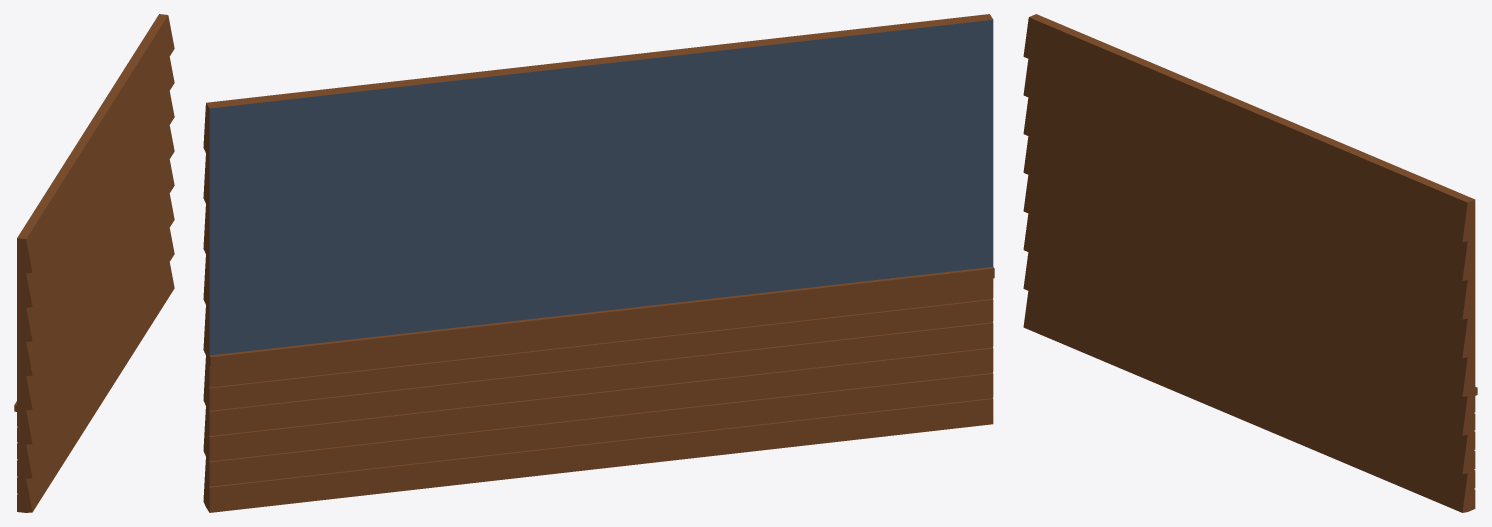
Rendered from ww_wall_d.glb.
The picture shows the model from 3 angles, left to right: view 1: azimuth 30°, elevation 25°; view 2: azimuth 150°, elevation 25°; view 3: azimuth 270°, elevation 25°; orthographic projection. The views are drawn at different scales.
Parts seen in each view (by area): view 1: Wall_D; view 2: Wall_D; view 3: Wall_D.
Boxes of the visible parts, left/top/right/bottom form: Wall_D: left=14, top=14, right=174, bottom=512; Wall_D: left=203, top=14, right=994, bottom=512; Wall_D: left=1023, top=14, right=1477, bottom=512.
Bounding box in the file's own units: 4.68 × 3.52 × 4.68.
